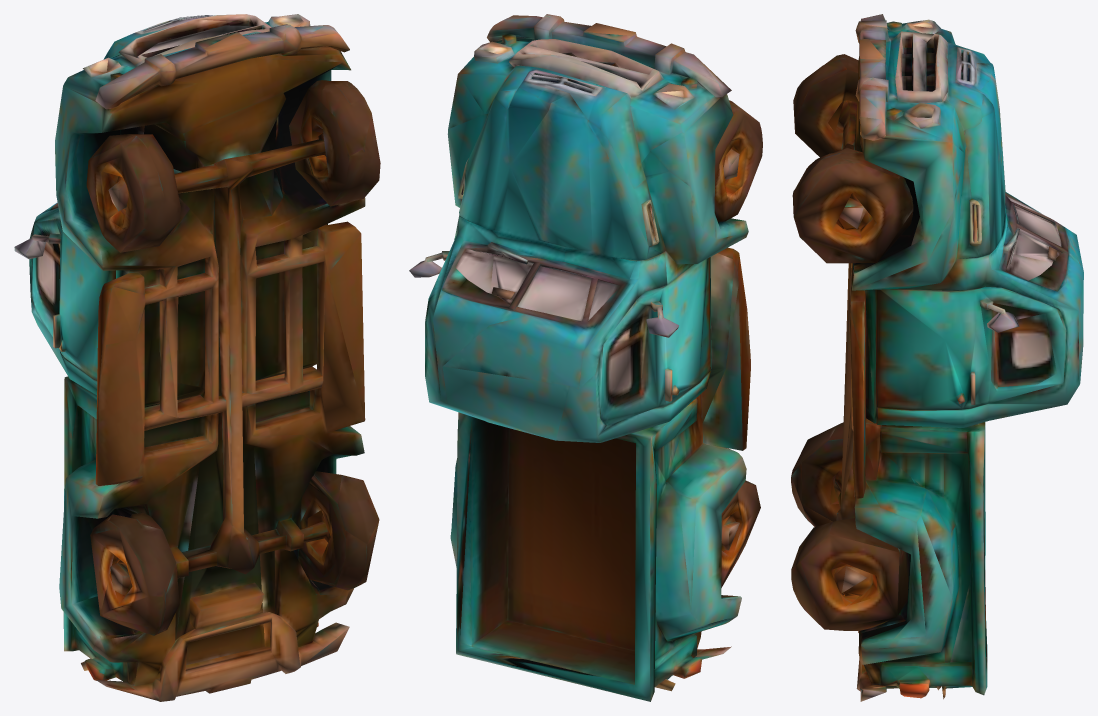
3 views of the same model, side by side, from view 1: azimuth 30°, elevation 25°; view 2: azimuth 150°, elevation 25°; view 3: azimuth 270°, elevation 25° (orthographic). The views are drawn at different scales.
Parts seen in each view (by area): view 1: material; view 2: material; view 3: material.
Part boxes in pixels (<box>): material: <box>14,14,380,701</box>; material: <box>409,14,762,701</box>; material: <box>791,14,1083,701</box>.
Size of the model in its own units: 0.443 by 1 by 0.4318.
1 material, 1 textured.
